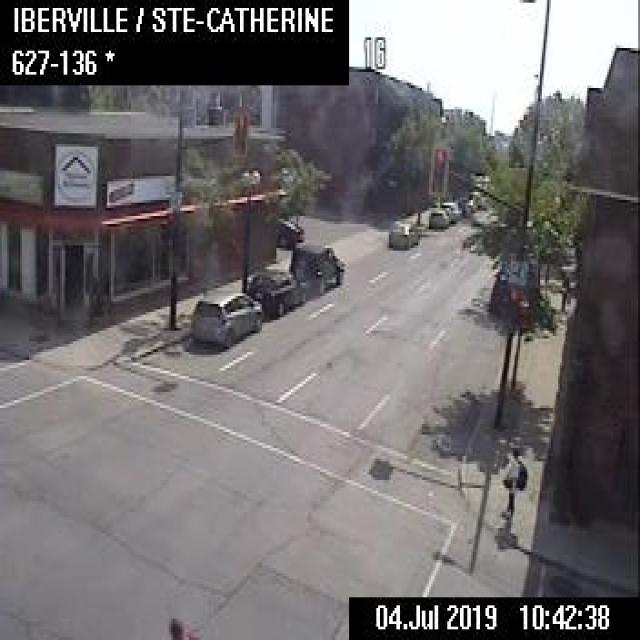pedestrian: (502, 444, 526, 518), (168, 616, 196, 637)
vehicle: (190, 288, 260, 346), (244, 266, 306, 315), (288, 238, 344, 292), (488, 259, 533, 317), (274, 215, 302, 248), (388, 218, 418, 248), (438, 198, 461, 221), (427, 206, 449, 228)
